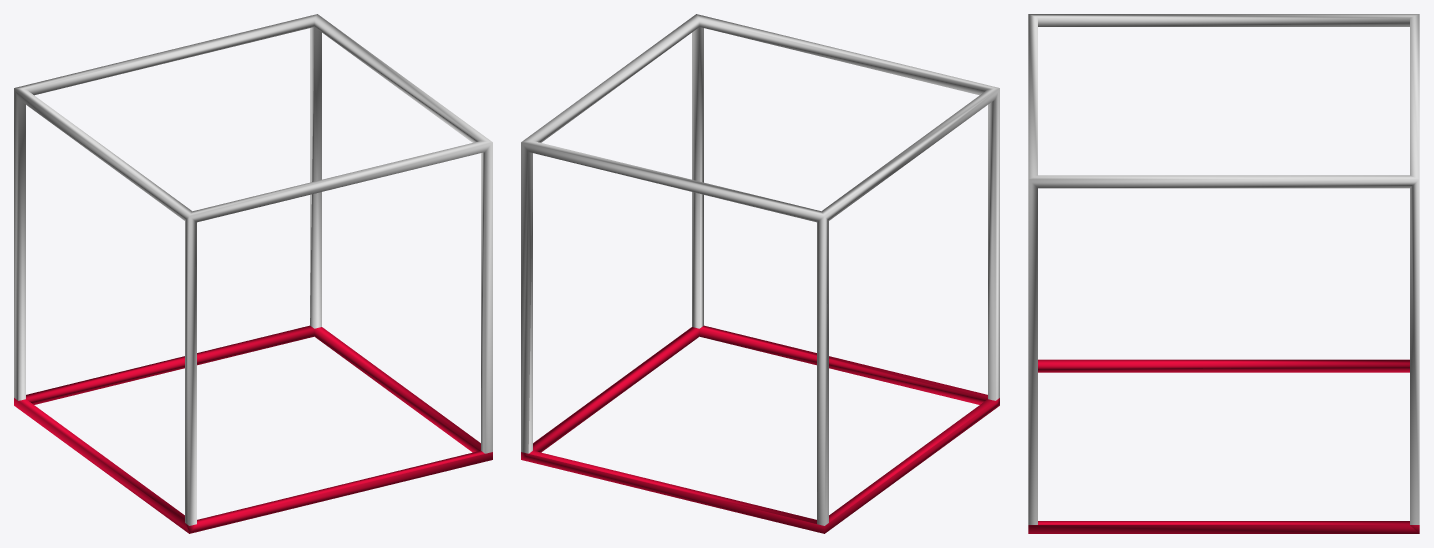
3 views of the same model, side by side, from view 1: azimuth 30°, elevation 25°; view 2: azimuth 150°, elevation 25°; view 3: azimuth 270°, elevation 25° (orthographic). The views are drawn at different scales.
Parts seen in each view (by area): view 1: Cube.001; view 2: Cube.001; view 3: Cube.001.
Part boxes in pixels (x1,y1,x2,y2): Cube.001: (14, 14, 492, 533); Cube.001: (521, 14, 999, 533); Cube.001: (1028, 14, 1419, 533).
Bounding box in the file's own units: 20000 × 20000 × 20000.
